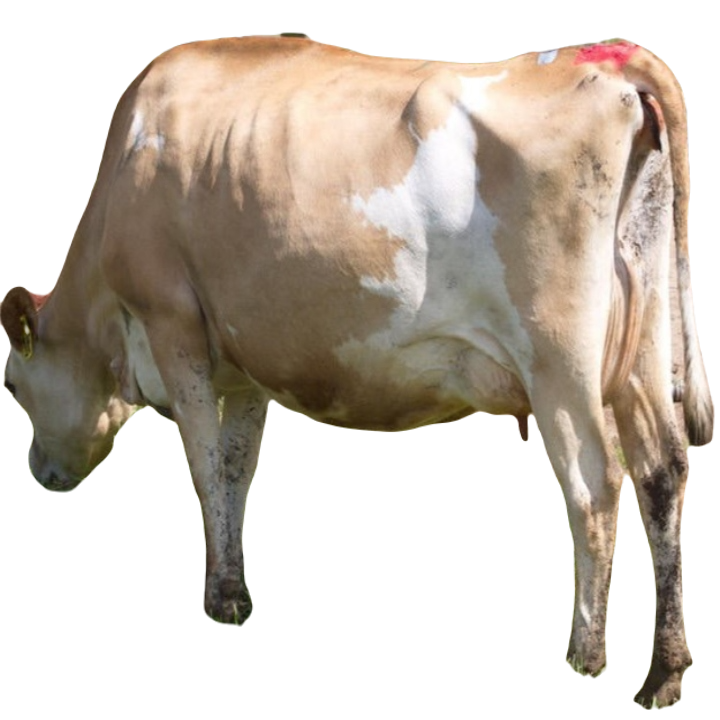Cow: (2, 39, 716, 713)
